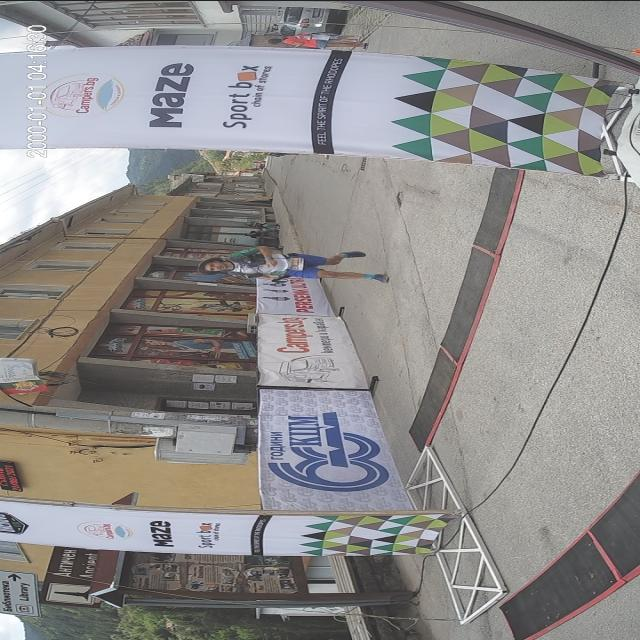runner: (188, 238, 394, 288)
